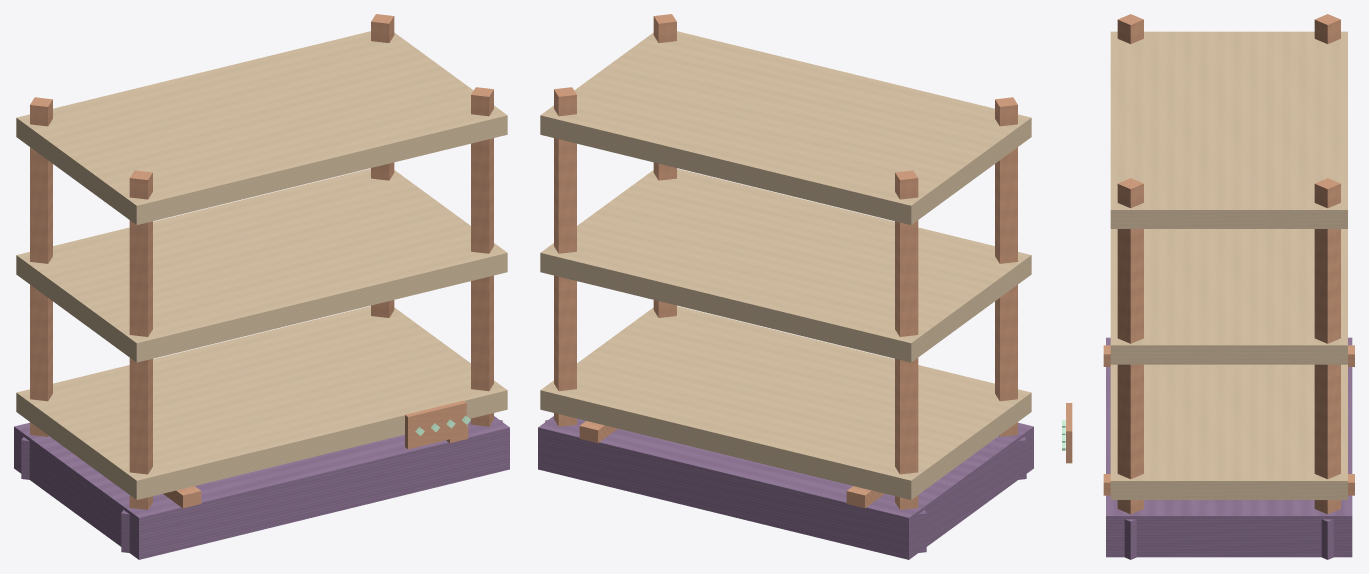
File: atlas100-s085-a06.glb
The picture shows the model from 3 angles, left to right: view 1: azimuth 30°, elevation 25°; view 2: azimuth 150°, elevation 25°; view 3: azimuth 270°, elevation 25°; orthographic projection.
Visible parts, largest first — view 1: atlas100-s085-a06:part-013, atlas100-s085-a06:part-012, atlas100-s085-a06:part-011, atlas100-s085-a06:part-000, atlas100-s085-a06:part-005, atlas100-s085-a06:part-009, atlas100-s085-a06:part-003, atlas100-s085-a06:part-014, atlas100-s085-a06:part-007; view 2: atlas100-s085-a06:part-013, atlas100-s085-a06:part-011, atlas100-s085-a06:part-012, atlas100-s085-a06:part-000, atlas100-s085-a06:part-003, atlas100-s085-a06:part-007, atlas100-s085-a06:part-005, atlas100-s085-a06:part-009; view 3: atlas100-s085-a06:part-013, atlas100-s085-a06:part-012, atlas100-s085-a06:part-011, atlas100-s085-a06:part-000, atlas100-s085-a06:part-007, atlas100-s085-a06:part-009, atlas100-s085-a06:part-003, atlas100-s085-a06:part-005, atlas100-s085-a06:part-008, atlas100-s085-a06:part-010, atlas100-s085-a06:part-014.
Boxes of the visible parts, left/top/right/bottom form: atlas100-s085-a06:part-013: left=16, top=31, right=507, bottom=224; atlas100-s085-a06:part-012: left=16, top=168, right=507, bottom=362; atlas100-s085-a06:part-011: left=16, top=306, right=507, bottom=499; atlas100-s085-a06:part-000: left=14, top=416, right=509, bottom=559; atlas100-s085-a06:part-005: left=129, top=170, right=152, bottom=509; atlas100-s085-a06:part-009: left=471, top=87, right=493, bottom=426; atlas100-s085-a06:part-003: left=30, top=97, right=52, bottom=436; atlas100-s085-a06:part-014: left=405, top=400, right=466, bottom=449; atlas100-s085-a06:part-007: left=371, top=14, right=394, bottom=317; atlas100-s085-a06:part-013: left=540, top=31, right=1031, bottom=224; atlas100-s085-a06:part-011: left=540, top=306, right=1031, bottom=499; atlas100-s085-a06:part-012: left=540, top=168, right=1031, bottom=362; atlas100-s085-a06:part-000: left=538, top=416, right=1033, bottom=559; atlas100-s085-a06:part-003: left=895, top=170, right=918, bottom=509; atlas100-s085-a06:part-007: left=554, top=87, right=576, bottom=426; atlas100-s085-a06:part-005: left=995, top=97, right=1017, bottom=436; atlas100-s085-a06:part-009: left=653, top=14, right=676, bottom=317; atlas100-s085-a06:part-013: left=1110, top=31, right=1347, bottom=228; atlas100-s085-a06:part-012: left=1110, top=229, right=1347, bottom=364; atlas100-s085-a06:part-011: left=1110, top=364, right=1347, bottom=499; atlas100-s085-a06:part-000: left=1106, top=337, right=1352, bottom=557; atlas100-s085-a06:part-007: left=1314, top=178, right=1340, bottom=514; atlas100-s085-a06:part-009: left=1117, top=178, right=1143, bottom=514; atlas100-s085-a06:part-003: left=1314, top=14, right=1340, bottom=44; atlas100-s085-a06:part-005: left=1117, top=14, right=1143, bottom=44; atlas100-s085-a06:part-008: left=1321, top=519, right=1333, bottom=559; atlas100-s085-a06:part-010: left=1124, top=519, right=1136, bottom=559; atlas100-s085-a06:part-014: left=1066, top=403, right=1072, bottom=463.
Bounding box in the file's own units: 2.47 × 2.3 × 1.66.
Materials: 4 (4 with a texture image).
